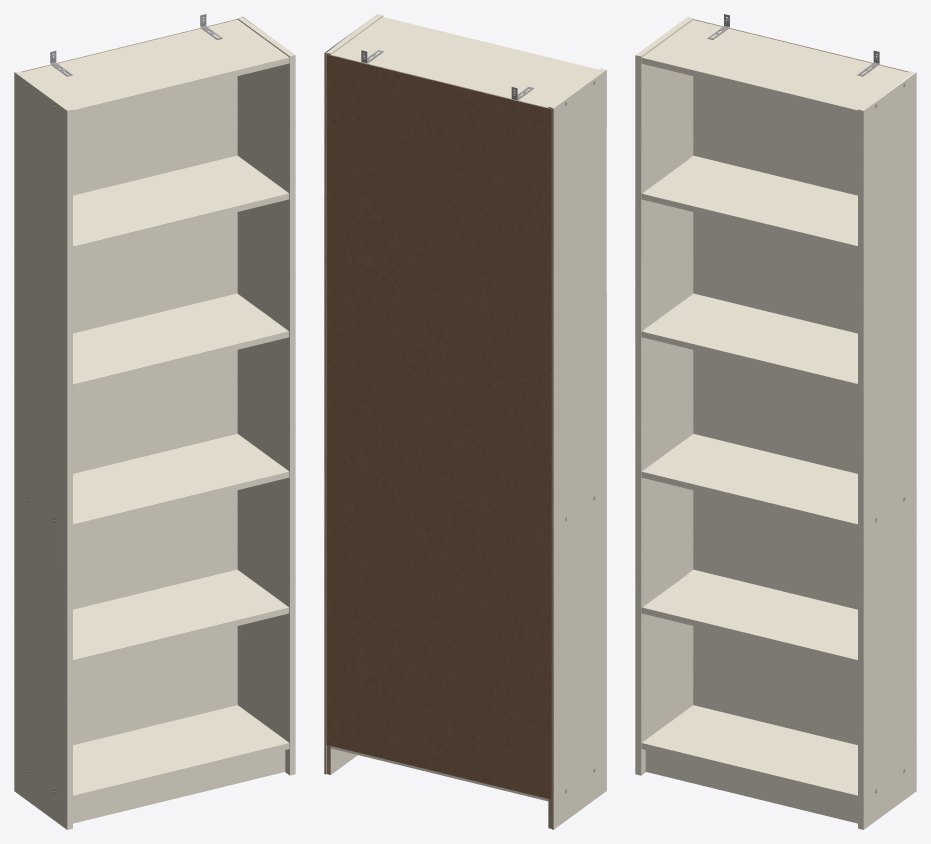
Rendered from gersby_rega_70261131.glb.
3 renders of one model, left to right at view 1: azimuth 30°, elevation 25°; view 2: azimuth 150°, elevation 25°; view 3: azimuth 330°, elevation 25°, orthographic.
Parts seen in each view (by area): view 1: gersby_rega_70261131; view 2: gersby_rega_70261131; view 3: gersby_rega_70261131.
Part boxes in pixels (x1,y1,x2,y2): gersby_rega_70261131: (14,14,295,829); gersby_rega_70261131: (324,14,606,829); gersby_rega_70261131: (635,14,916,829).
Size of the model in its own units: 0.599 by 1.83 by 0.24.
1 material, 1 textured.
